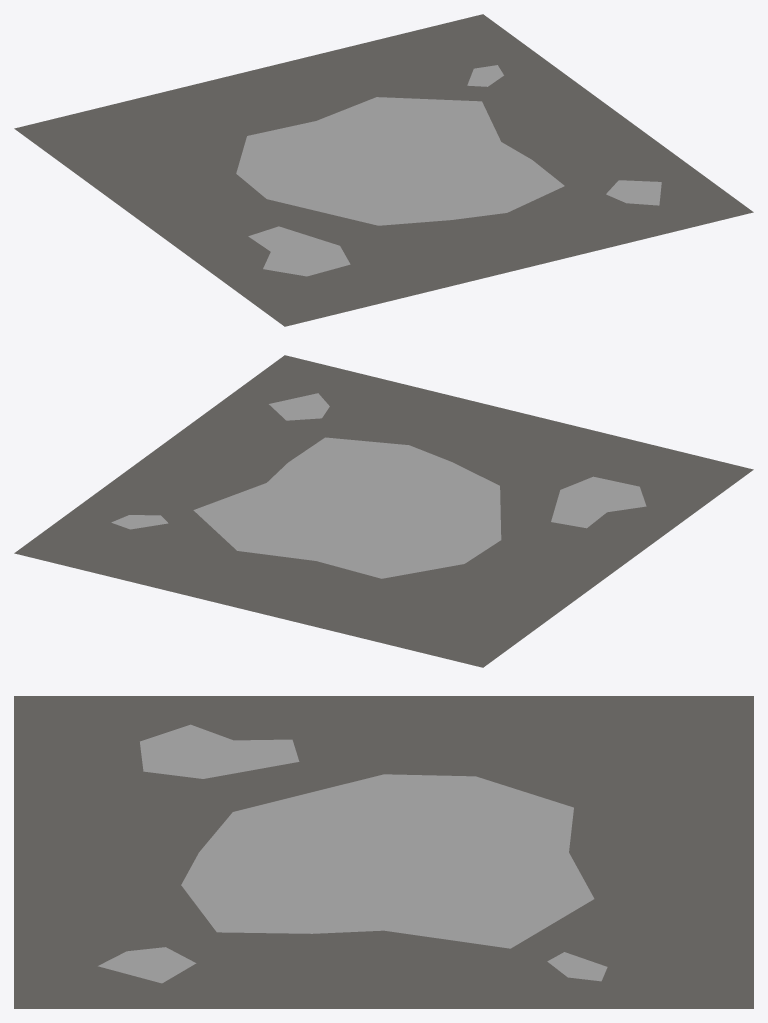
Rendered from AI_Env_Floor_Puddle.fbx.
The picture shows the model from 3 angles, top to bottom: view 1: azimuth 30°, elevation 25°; view 2: azimuth 150°, elevation 25°; view 3: azimuth 270°, elevation 25°; orthographic projection. The views are drawn at different scales.
Parts seen in each view (by area): view 1: AI_Env_Floor_Puddle; view 2: AI_Env_Floor_Puddle; view 3: AI_Env_Floor_Puddle.
Part boxes in pixels (bbox=[...]): AI_Env_Floor_Puddle: bbox=[14, 14, 753, 326]; AI_Env_Floor_Puddle: bbox=[14, 355, 753, 667]; AI_Env_Floor_Puddle: bbox=[14, 696, 753, 1008].
Size of the model in its own units: 10 by 0 by 10.
